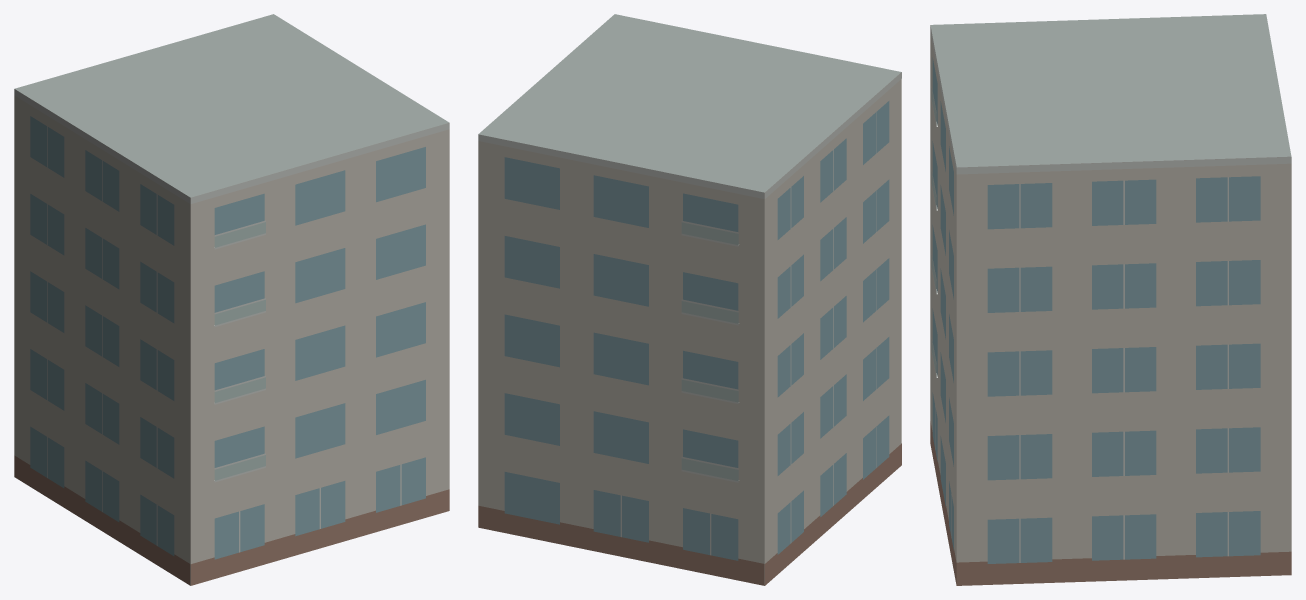
Rendered from survey-upis-32657914.glb.
3 views of the same model, side by side, from view 1: azimuth 30°, elevation 25°; view 2: azimuth 150°, elevation 25°; view 3: azimuth 270°, elevation 25° (orthographic). The views are drawn at different scales.
Visible parts, largest first — view 1: survey-upis-32657914.tmp; view 2: survey-upis-32657914.tmp; view 3: survey-upis-32657914.tmp.
Boxes of the visible parts, x1=… form: survey-upis-32657914.tmp: x1=14, y1=14, x2=449, y2=585; survey-upis-32657914.tmp: x1=478, y1=14, x2=901, y2=585; survey-upis-32657914.tmp: x1=930, y1=14, x2=1291, y2=585.
Size of the model in its own units: 11.42 by 14.5 by 11.35.
